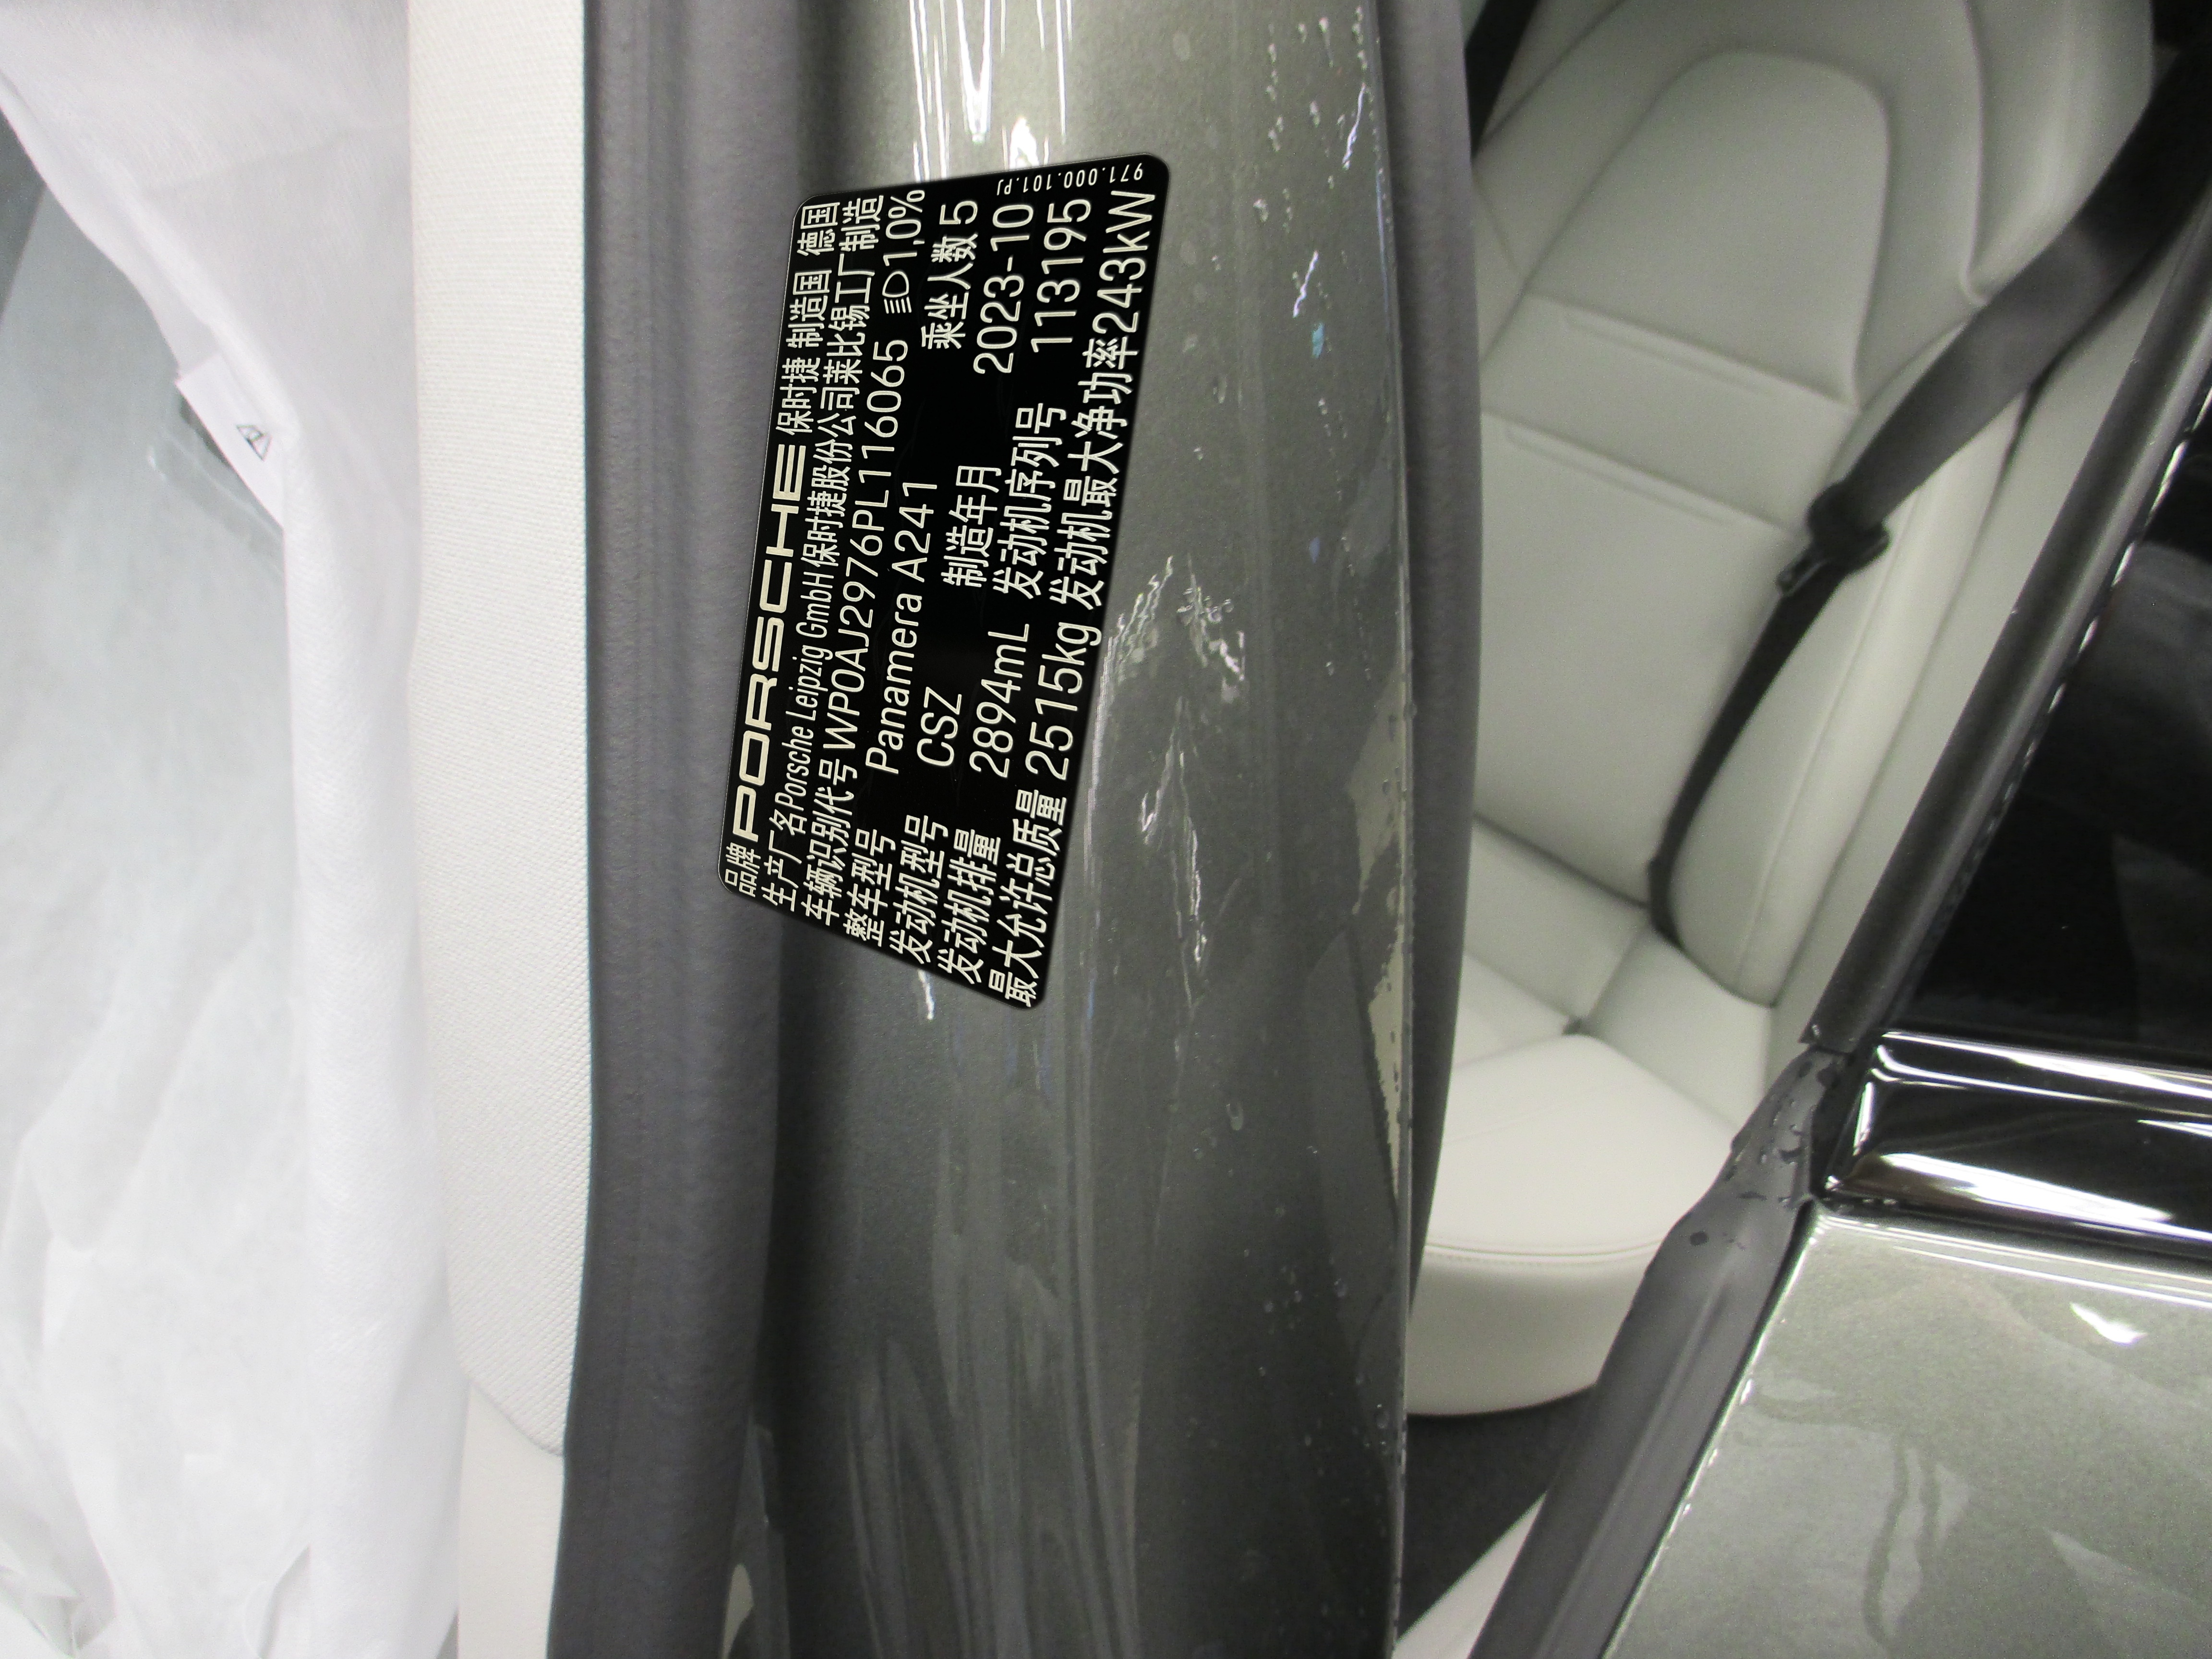Typlabel-China: (718, 153, 1169, 1009)
